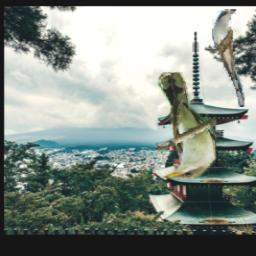Cuckoo: (158, 72, 216, 179), (213, 9, 246, 107)
